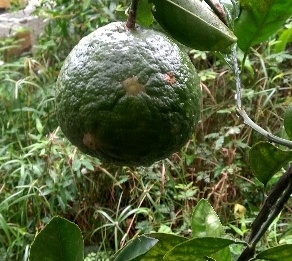Cam: (49, 18, 203, 167)
